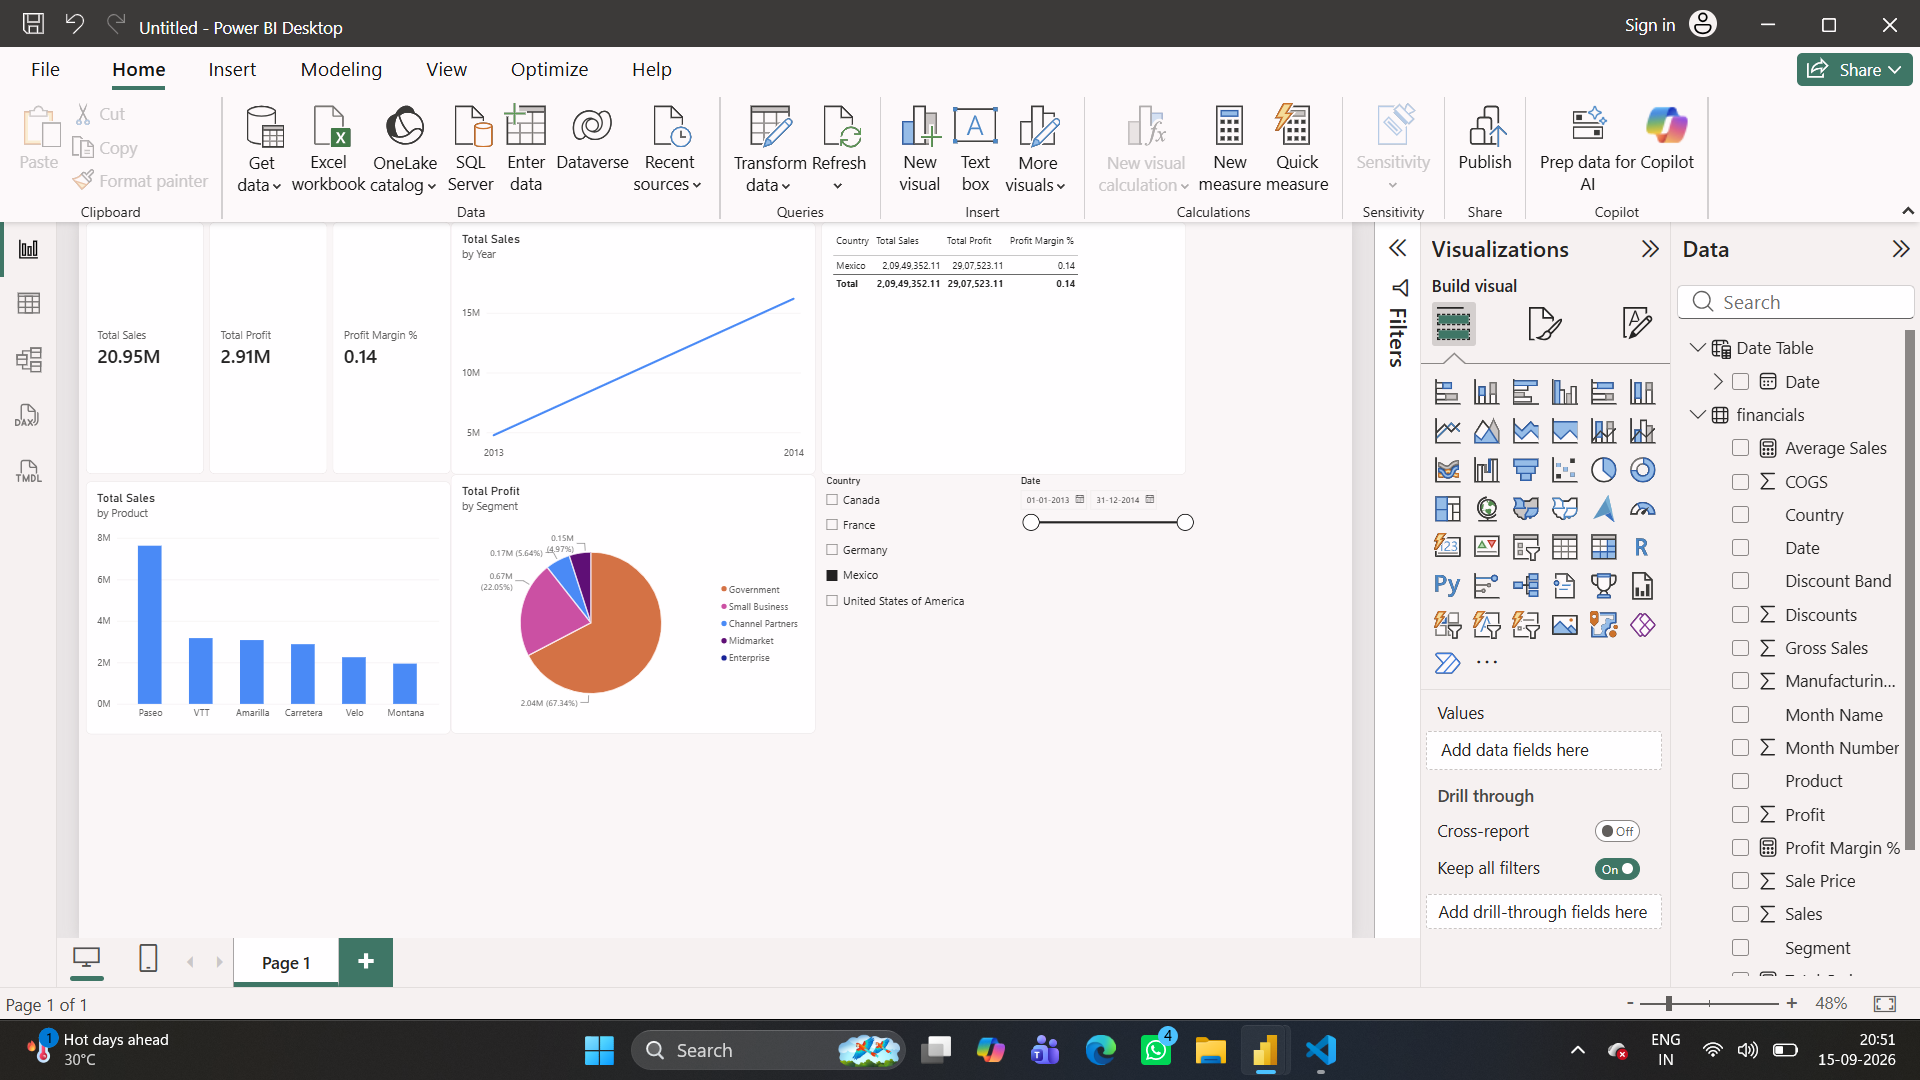

This screenshot's page, from the dashboard's own definition file:
{"tool":"powerbi","page":{"name":"Page 1","canvas":[1920,1080],"ordinal":0},"visuals":[{"type":"cardVisual","fields":{"Data":["financials.Total Sales","financials.Total Profit","financials.Profit Margin %"]},"box":[9.8,0,550.2,380.8],"z":0},{"type":"clusteredColumnChart","fields":{"Category":["financials.Product"],"Y":["financials.Total Sales"]},"box":[10,391,550,381],"z":1000},{"type":"lineChart","fields":{"Category":["Date Table.Date.Variation.Date Hierarchy.Year","Date Table.Date.Variation.Date Hierarchy.Quarter","Date Table.Date.Variation.Date Hierarchy.Month","Date Table.Date.Variation.Date Hierarchy.Day"],"Y":["financials.Total Sales"]},"box":[560.1,0,550.2,380.8],"z":2000},{"type":"pieChart","fields":{"Category":["financials.Segment"],"Y":["financials.Total Profit"]},"box":[560.1,380.8,550.2,390.6],"z":3000},{"type":"tableEx","fields":{"Values":["financials.Country","financials.Total Sales","financials.Total Profit","financials.Profit Margin %"]},"box":[1120,0,550,381],"z":4000},{"type":"slicer","fields":{"Values":["financials.Country"]},"box":[1119.4,380.8,257.4,391.3],"z":4001},{"type":"slicer","fields":{"Values":["Date Table.Date"]},"box":[1412.4,380.8,272,380.8],"z":4002}]}

Visuals, with their boxes on the page's 1920x1080 design canvas (x1, y1, x2, y2). These are canvas units, not pixel positions in the 1920x1080 screenshot, which may show the page scaled, cropped or inside an application window:
cardVisual - financials.Total Sales x financials.Total Profit: region(10, 0, 560, 381)
clusteredColumnChart - financials.Product x financials.Total Sales: region(10, 391, 560, 772)
lineChart - Date Table.Date.Variation.Date Hierarchy.Year x Date Table.Date.Variation.Date Hierarchy.Quarter: region(560, 0, 1110, 381)
pieChart - financials.Segment x financials.Total Profit: region(560, 381, 1110, 771)
tableEx - financials.Country x financials.Total Sales: region(1120, 0, 1670, 381)
slicer - financials.Country: region(1119, 381, 1377, 772)
slicer - Date Table.Date: region(1412, 381, 1684, 762)
